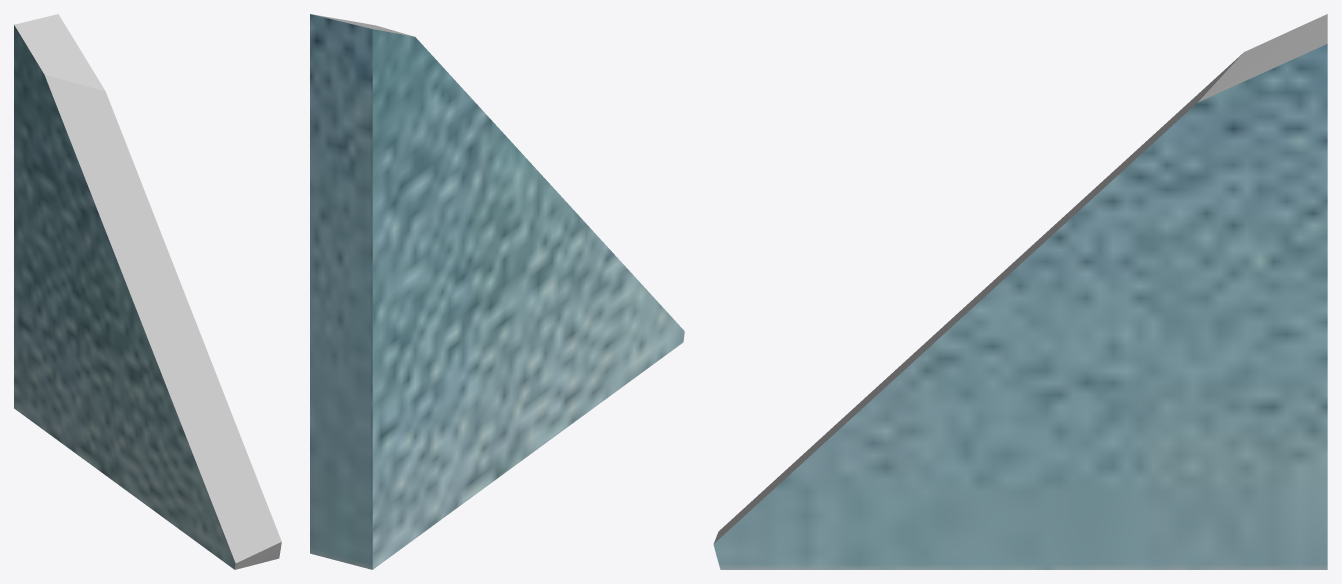
3 renders of one model, left to right at view 1: azimuth 30°, elevation 25°; view 2: azimuth 150°, elevation 25°; view 3: azimuth 270°, elevation 25°, orthographic. The views are drawn at different scales.
Visible parts, largest first — view 1: Cube_cell.019_Mesh.019; view 2: Cube_cell.019_Mesh.019; view 3: Cube_cell.019_Mesh.019.
Boxes of the visible parts, x1,y1,x2,y2 form: Cube_cell.019_Mesh.019: (14, 14, 281, 569); Cube_cell.019_Mesh.019: (310, 14, 684, 569); Cube_cell.019_Mesh.019: (713, 14, 1327, 569).
Bounding box in the file's own units: 0.0832 × 0.6882 × 0.7262.
